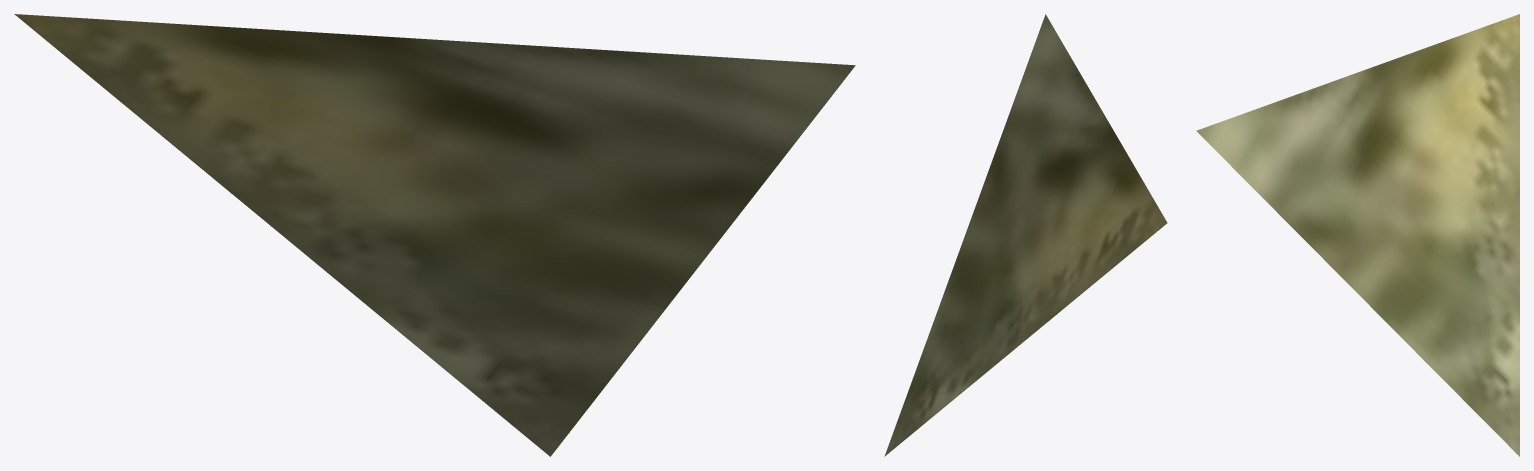
3 renders of one model, left to right at view 1: azimuth 30°, elevation 25°; view 2: azimuth 150°, elevation 25°; view 3: azimuth 270°, elevation 25°, orthographic. The views are drawn at different scales.
Bounding box in the file's own units: 0.8671 × 0.9503 × 0.8551.
Materials: 1 (1 with a texture image).
